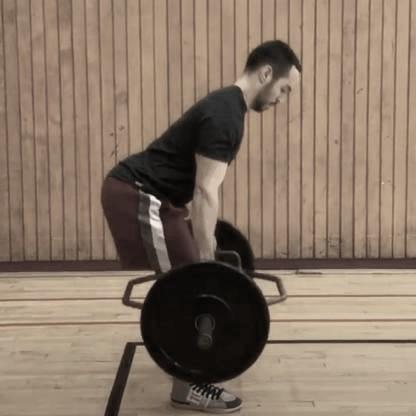Barbell: (196, 332, 217, 353)
